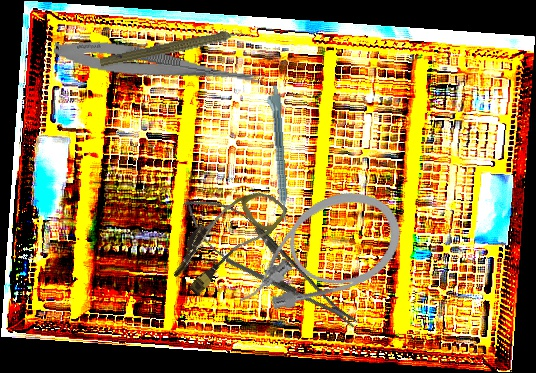Cannula: (216, 175, 416, 330), (164, 172, 290, 306)
Handpiece: (98, 23, 255, 74), (265, 84, 290, 223)
Micro Scissor: (51, 35, 269, 92)
Needle Holder: (170, 181, 370, 346)
